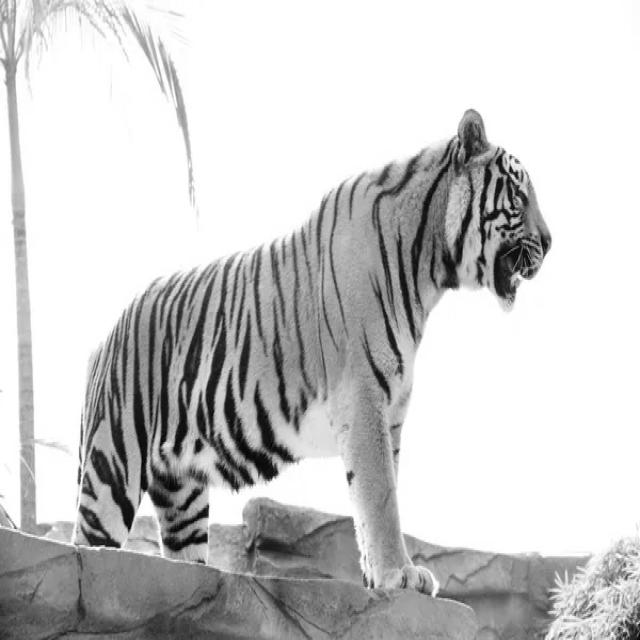Animal: (75, 110, 552, 594)
